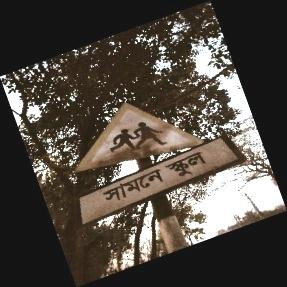School-in-front: (74, 102, 244, 227)
